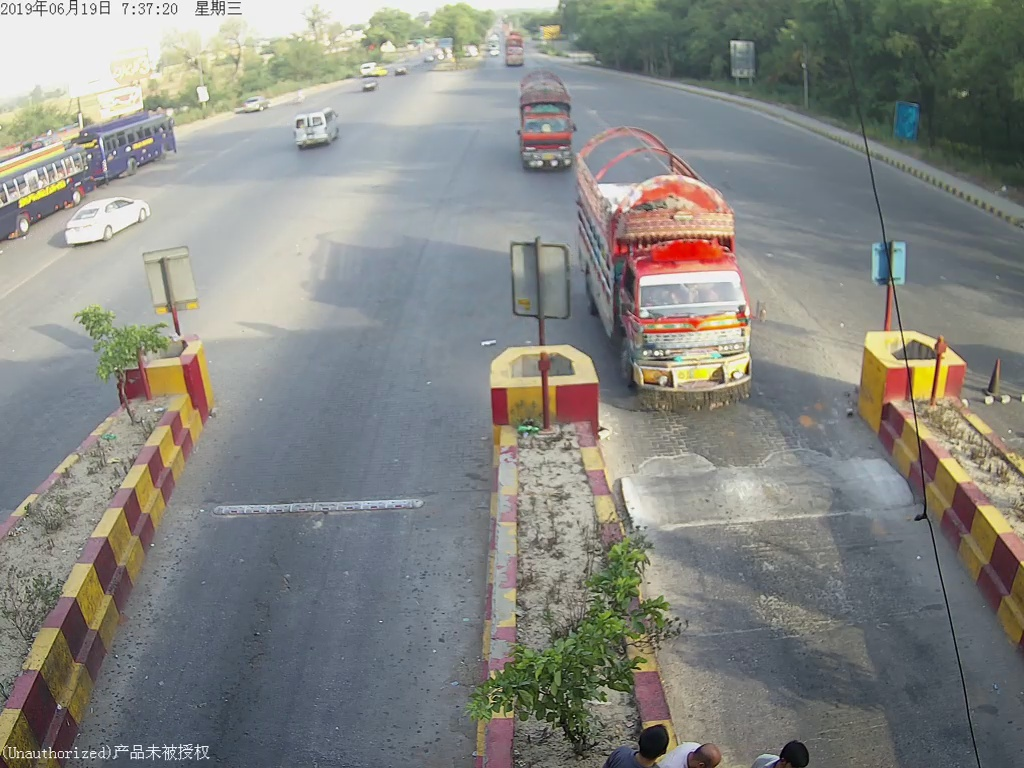Cat-4: (569, 129, 769, 399), (517, 67, 579, 175)
